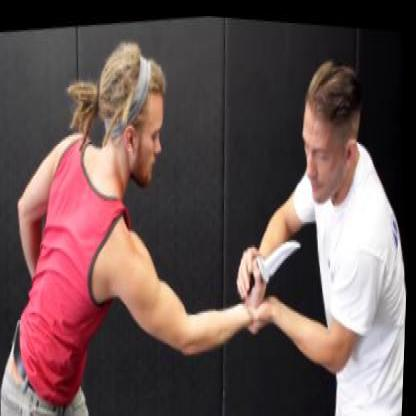knife: (238, 222, 310, 300)
